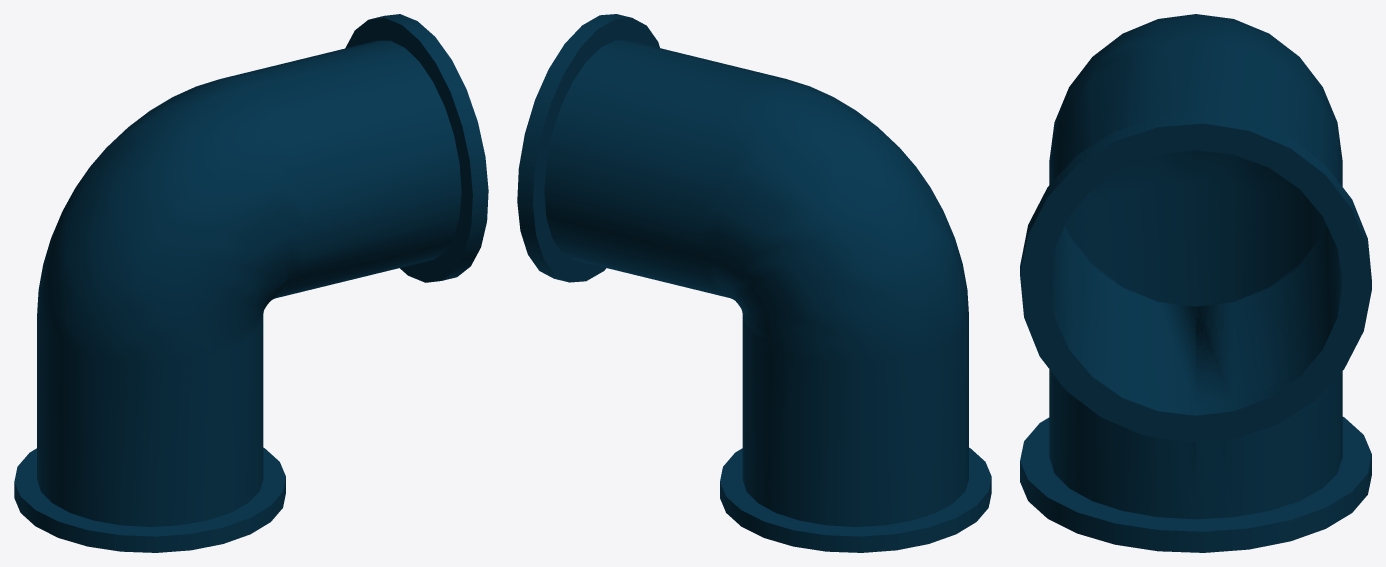
The model's file is pipe_corner.dae.
The picture shows the model from 3 angles, left to right: view 1: azimuth 30°, elevation 25°; view 2: azimuth 150°, elevation 25°; view 3: azimuth 270°, elevation 25°; orthographic projection. The views are drawn at different scales.
Visible parts, largest first — view 1: coords_ME_ID3_MA_material_27, coords_ME_ID11_MA_material_27, coords_ME_ID29_MA_material_27; view 2: coords_ME_ID3_MA_material_27, coords_ME_ID11_MA_material_27, coords_ME_ID29_MA_material_27; view 3: coords_ME_ID3_MA_material_27, coords_ME_ID11_MA_material_27, coords_ME_ID29_MA_material_27, coords_ME_ID17_MA_material_27.
Part boxes in pixels (x1,y1,x2,y2): coords_ME_ID3_MA_material_27: [37, 40, 461, 526]; coords_ME_ID11_MA_material_27: [345, 14, 488, 282]; coords_ME_ID29_MA_material_27: [14, 447, 285, 552]; coords_ME_ID3_MA_material_27: [544, 40, 968, 526]; coords_ME_ID11_MA_material_27: [517, 14, 659, 282]; coords_ME_ID29_MA_material_27: [720, 447, 991, 552]; coords_ME_ID3_MA_material_27: [1049, 14, 1342, 519]; coords_ME_ID11_MA_material_27: [1020, 113, 1371, 442]; coords_ME_ID29_MA_material_27: [1020, 417, 1371, 552]; coords_ME_ID17_MA_material_27: [1049, 278, 1342, 415].
Size of the model in its own units: 11.69 by 11.69 by 7.09.
